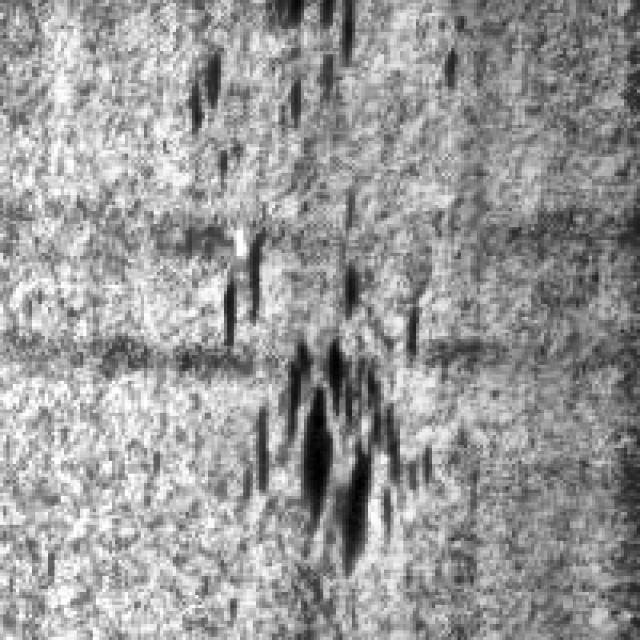Patches: (243, 298, 413, 570)
